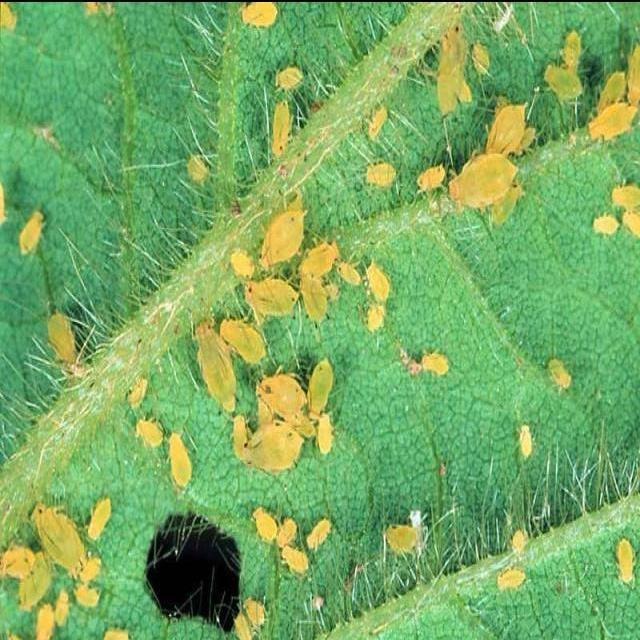aphid: (182, 303, 237, 420), (225, 267, 308, 335), (36, 291, 92, 386), (374, 500, 433, 573), (33, 502, 88, 576), (217, 308, 276, 376), (448, 154, 518, 210), (5, 200, 55, 275), (238, 420, 305, 474), (256, 372, 310, 429), (259, 206, 307, 269), (158, 420, 196, 496), (358, 148, 412, 200), (407, 154, 454, 213), (483, 558, 539, 606), (485, 102, 531, 160), (596, 182, 640, 240), (176, 140, 220, 196), (537, 345, 578, 402), (412, 340, 452, 396), (249, 494, 286, 552), (124, 416, 172, 458), (298, 240, 339, 284), (121, 358, 154, 409), (502, 509, 538, 554), (544, 63, 583, 101), (0, 545, 37, 581), (86, 496, 112, 542), (365, 262, 391, 303), (240, 2, 278, 30), (516, 410, 534, 468), (616, 537, 636, 584), (306, 518, 332, 553), (281, 544, 310, 575), (274, 66, 304, 92), (242, 599, 266, 630), (230, 250, 254, 279), (368, 105, 388, 139), (471, 43, 490, 75), (338, 262, 362, 287), (367, 304, 385, 332)
